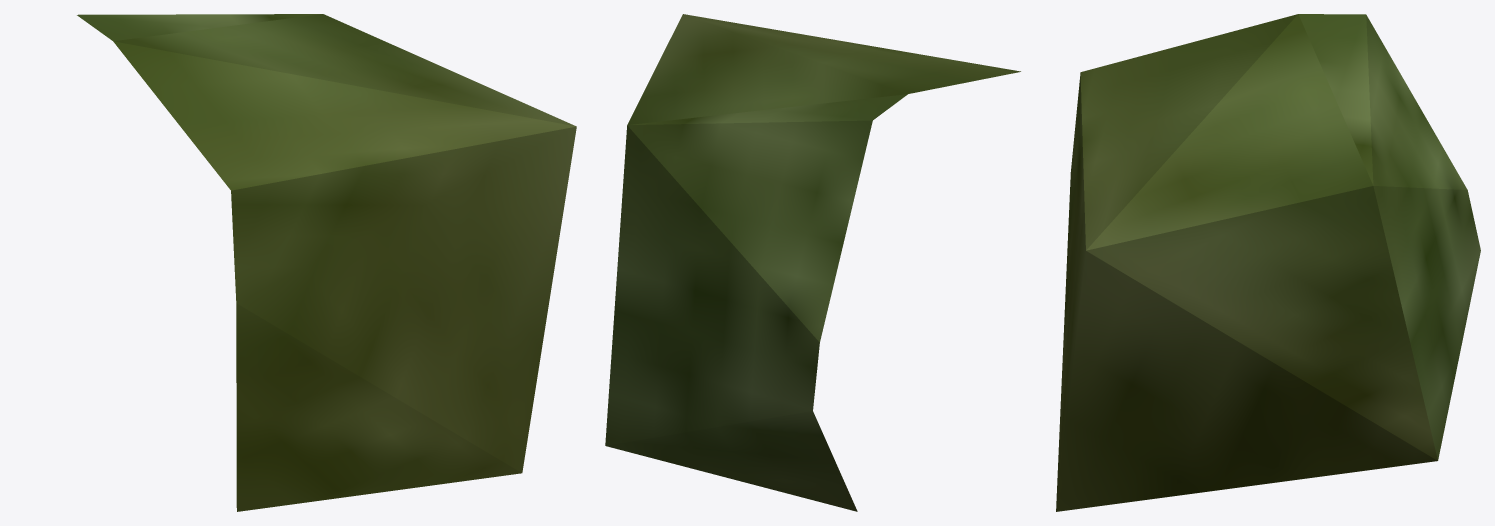
3 renders of one model, left to right at view 1: azimuth 30°, elevation 25°; view 2: azimuth 150°, elevation 25°; view 3: azimuth 270°, elevation 25°, orthographic. The views are drawn at different scales.
Size of the model in its own units: 0.029 by 0.0326 by 0.0331.
Materials: 1 (1 with a texture image).
